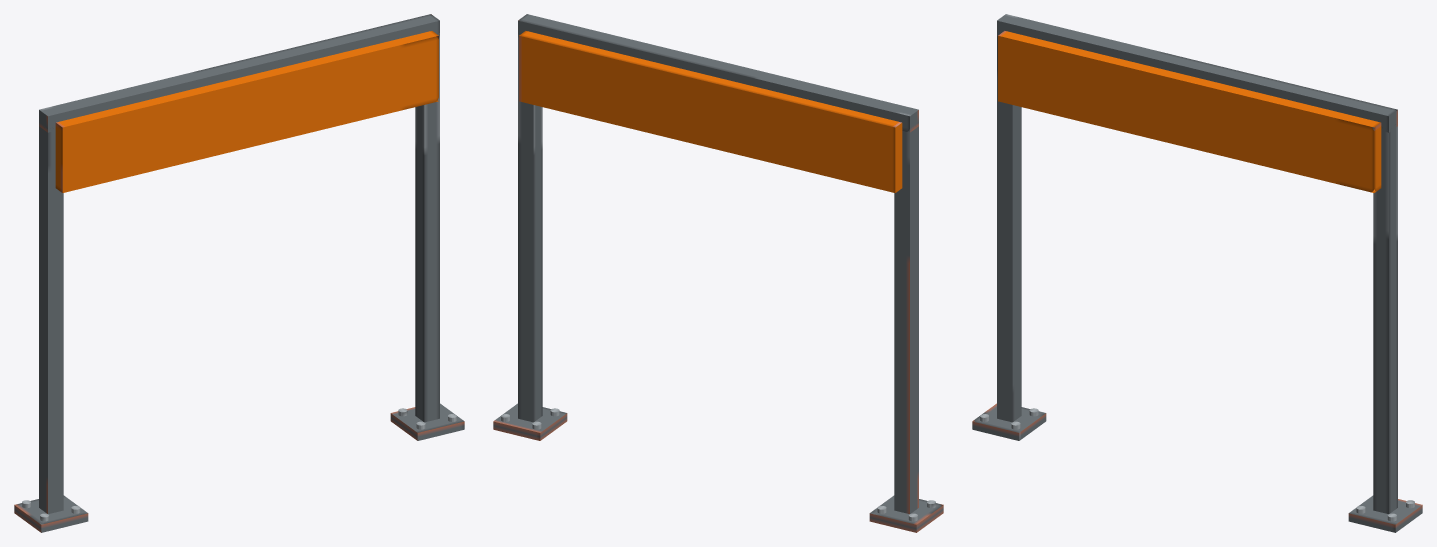
File: nl_station_sign_standing_ovg.obj
3 views of the same model, side by side, from view 1: azimuth 30°, elevation 25°; view 2: azimuth 150°, elevation 25°; view 3: azimuth 330°, elevation 25° (orthographic).
Parts seen in each view (by area): view 1: sign_back, pole_right, pole_left, pole_top, foot_right, foot_left; view 2: sign_front, pole_right, pole_left, pole_top, foot_right, foot_left; view 3: sign_back, pole_left, pole_right, pole_top, foot_left, foot_right.
Part boxes in pixels (box(x1,y1,x2,y2)): sign_back: box(55, 31, 438, 192); pole_right: box(39, 126, 63, 514); pole_left: box(415, 33, 439, 422); pole_top: box(39, 14, 439, 132); foot_right: box(14, 495, 88, 532); foot_left: box(390, 403, 464, 440); sign_front: box(519, 31, 902, 192); pole_right: box(894, 126, 918, 514); pole_left: box(518, 33, 542, 422); pole_top: box(518, 14, 918, 132); foot_right: box(869, 495, 943, 532); foot_left: box(493, 403, 567, 440); sign_back: box(998, 31, 1381, 192); pole_left: box(1373, 124, 1397, 514); pole_right: box(997, 36, 1021, 422); pole_top: box(997, 14, 1397, 132); foot_left: box(1348, 495, 1422, 532); foot_right: box(972, 403, 1046, 440).
Bounding box in the file's own units: 3.38 × 3.09 × 0.375.
Materials: 1 (1 with a texture image).
